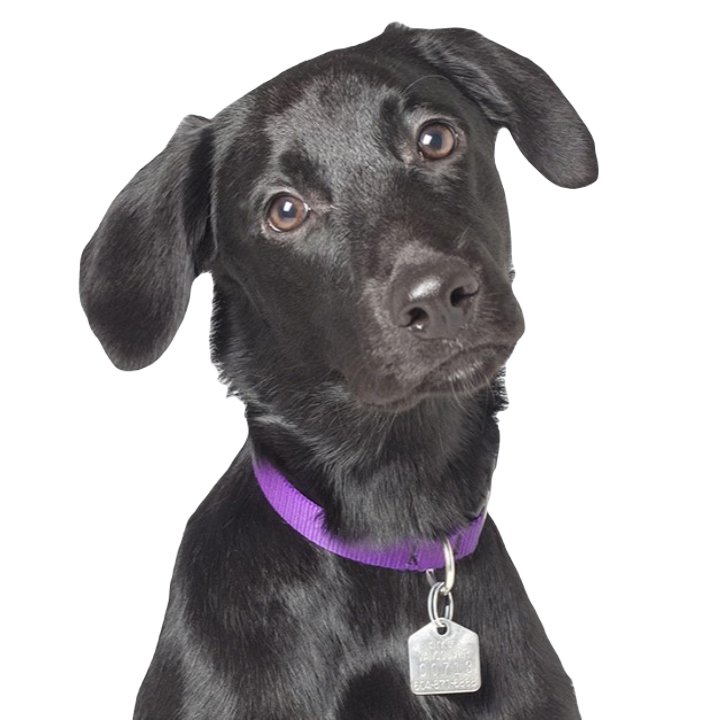Dog: (74, 15, 600, 719)
